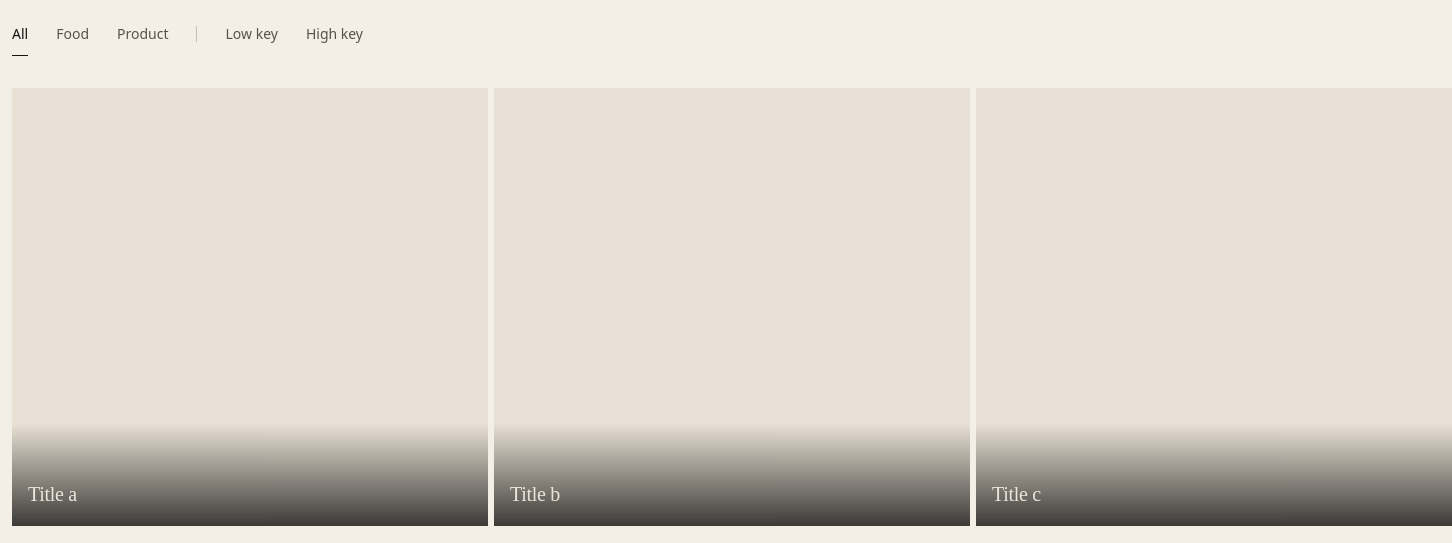
PortfolioGrid › filters by category and exposes the pressed state
Check: the number of list items is 3, box [12, 88, 488, 526]; [494, 88, 970, 526]; [976, 88, 1451, 526]
Click the button "Product".
click(143, 34)  # box [117, 12, 168, 56]
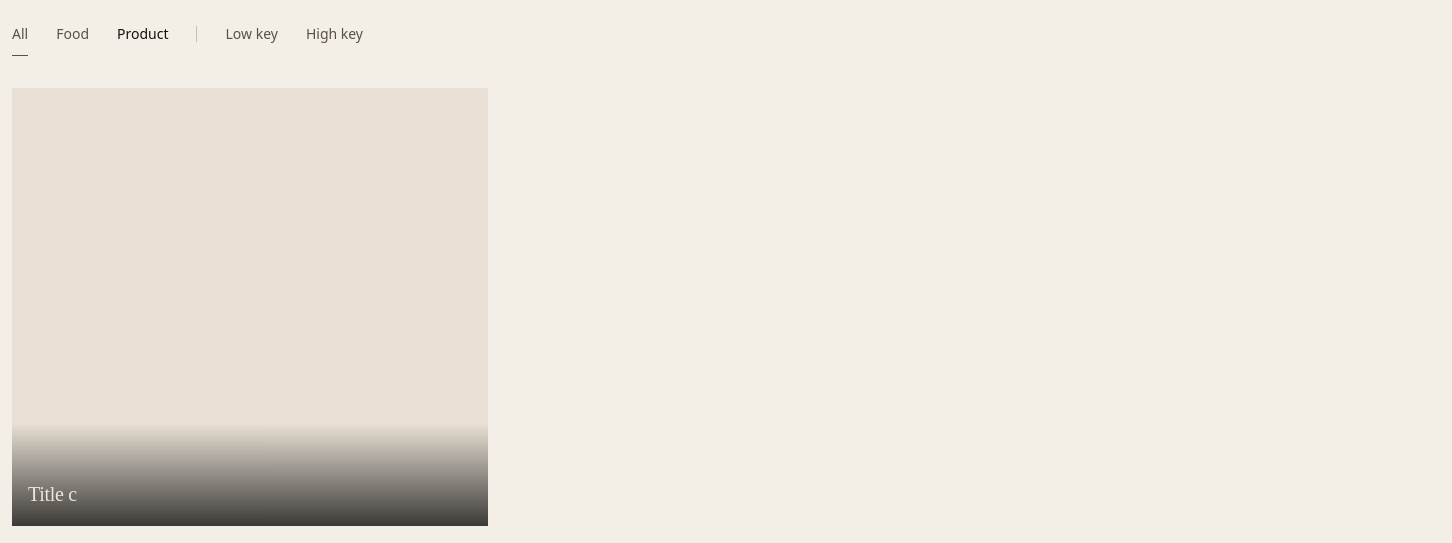
Check: the number of list items is 1, box [12, 88, 488, 526]
